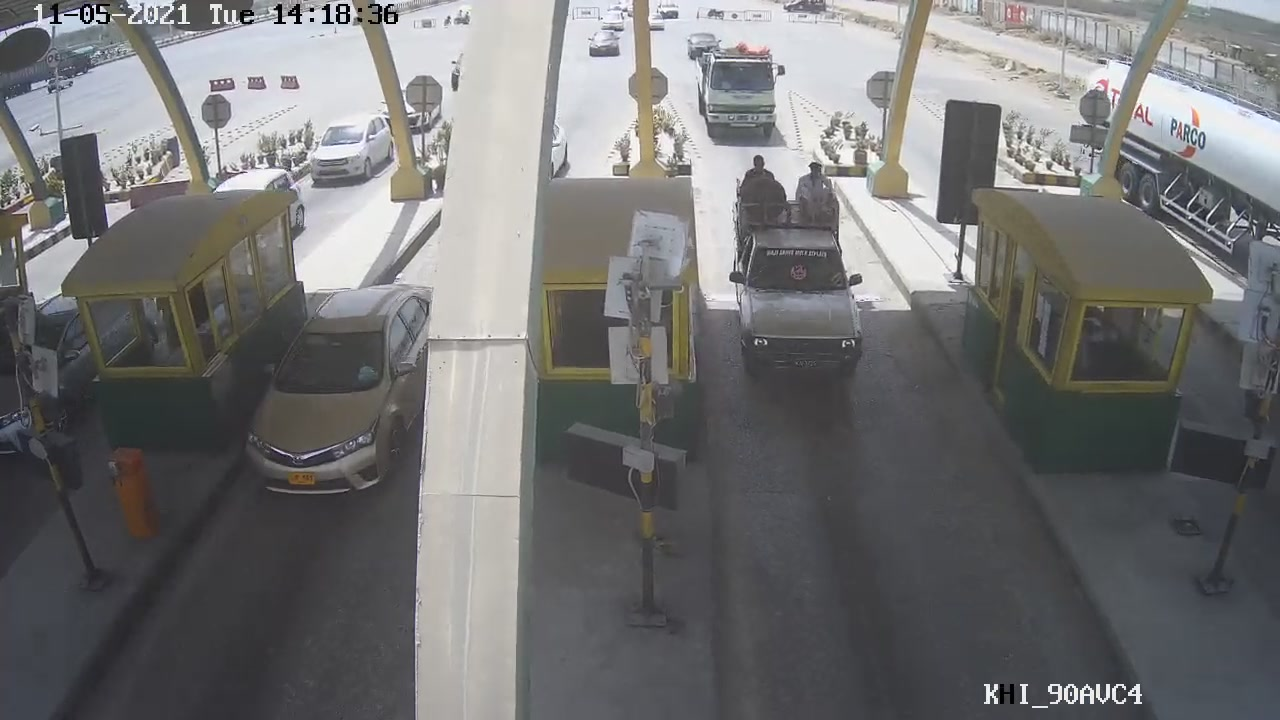F1: (720, 199, 881, 392)
